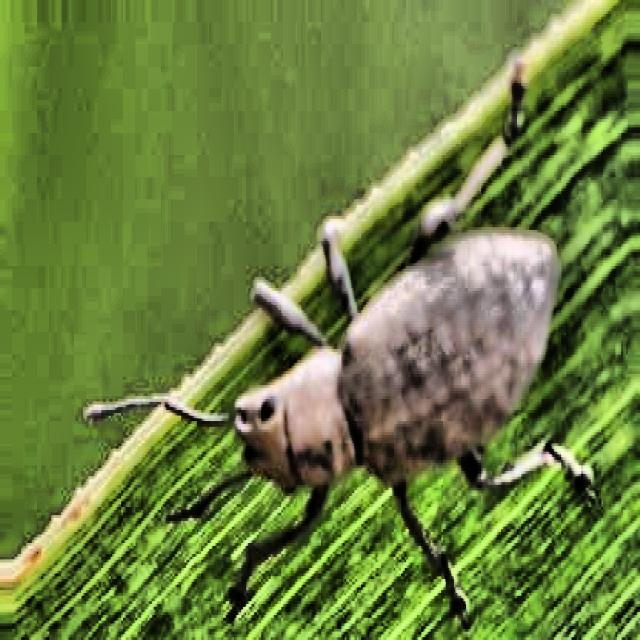Stink bug: (102, 125, 615, 610)
